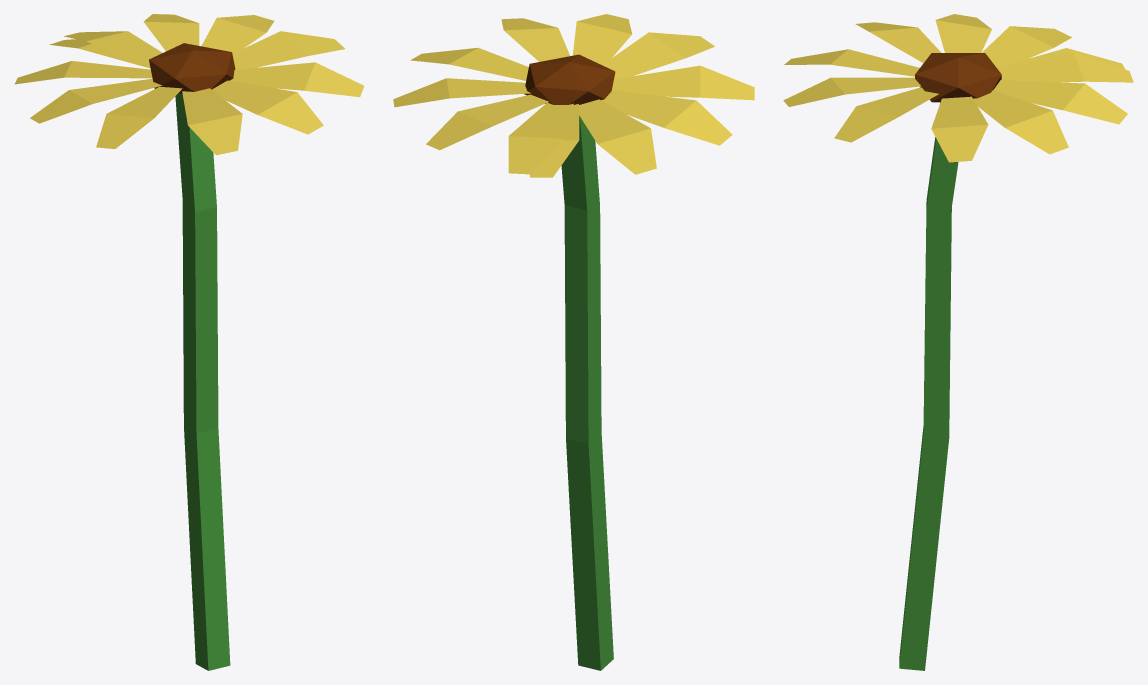
The model's file is sunflower.fbx.
3 renders of one model, left to right at view 1: azimuth 30°, elevation 25°; view 2: azimuth 150°, elevation 25°; view 3: azimuth 270°, elevation 25°, orthographic. The views are drawn at different scales.
Parts seen in each view (by area): view 1: Plane.001; view 2: Plane.001; view 3: Plane.001.
Boxes of the visible parts, bbox=[...] form: Plane.001: bbox=[14, 14, 364, 670]; Plane.001: bbox=[393, 14, 754, 670]; Plane.001: bbox=[783, 14, 1133, 670].
Size of the model in its own units: 465 by 875 by 456.
